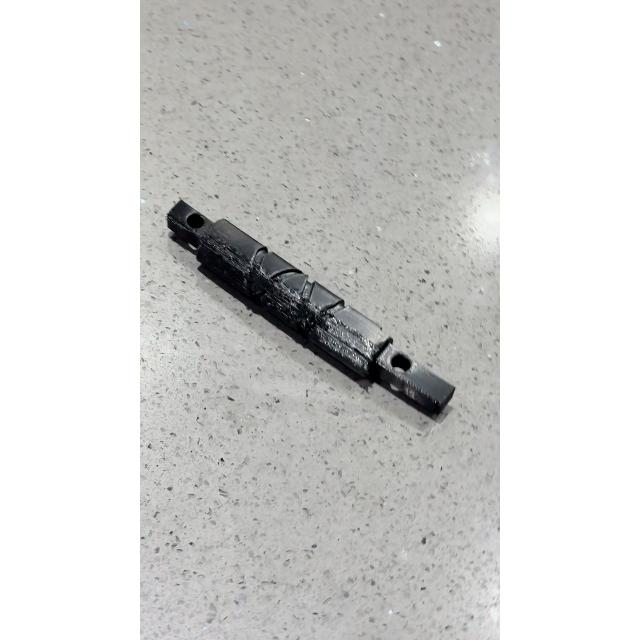Pieza_1: (165, 188, 465, 428)
